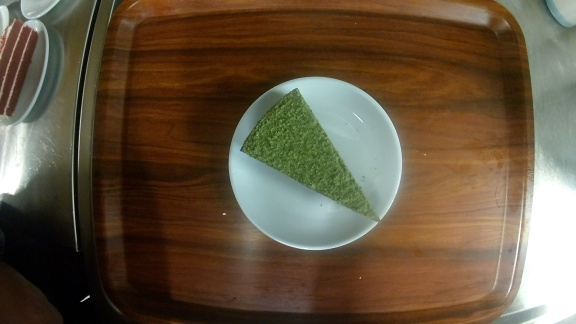fistiklipasta: (229, 76, 403, 250)
